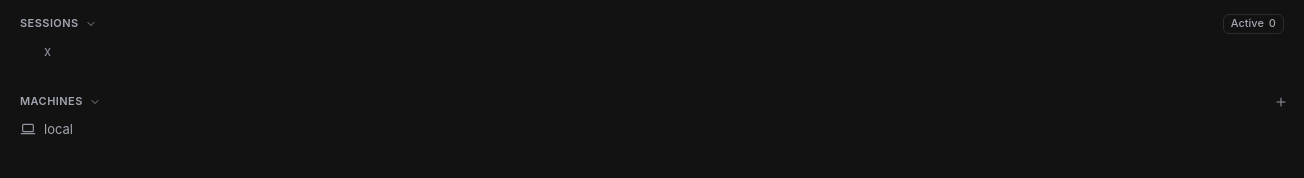
it: Sidebar machine actions › shows a failed inline Start
Step 1. Click the button named "Start x" → (48, 51), box [12, 37, 1292, 65]
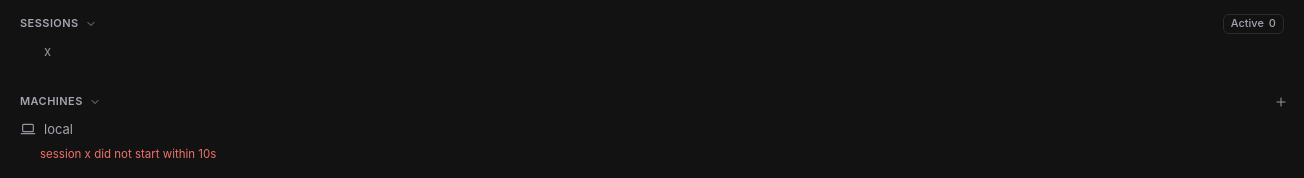
Expected: the message shows "did not start", [40, 147, 216, 161]
